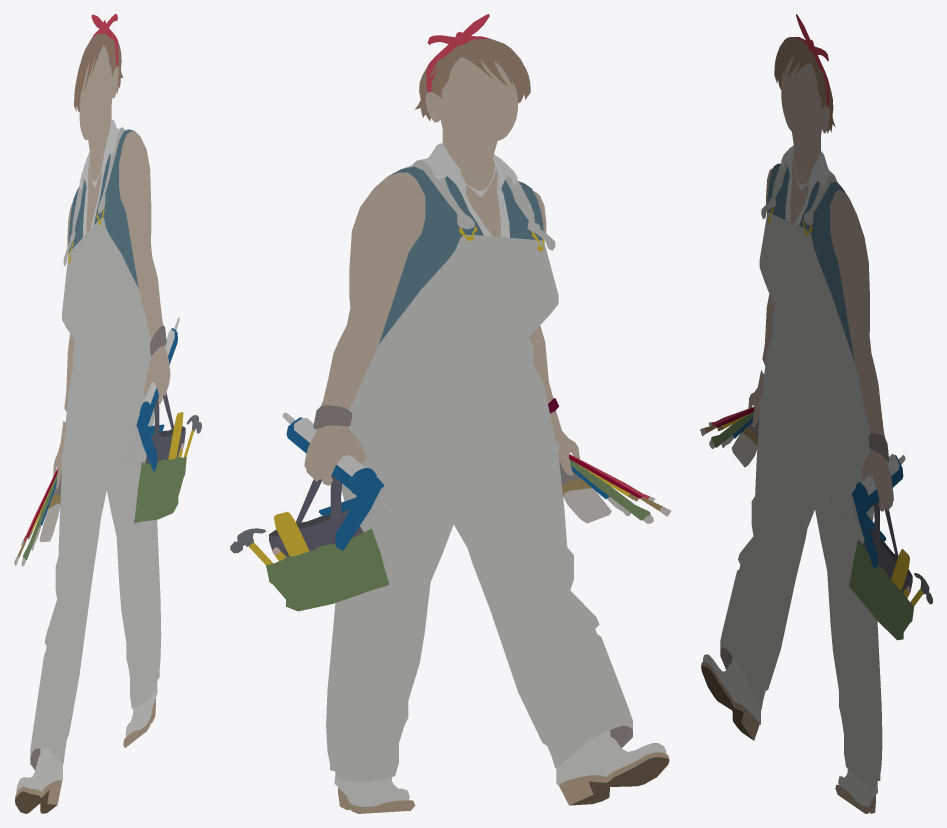
File: small model.gltf
3 renders of one model, left to right at view 1: azimuth 30°, elevation 25°; view 2: azimuth 150°, elevation 25°; view 3: azimuth 270°, elevation 25°, orthographic. The views are drawn at different scales.
Visible parts, largest first — view 1: Lisanne; view 2: Lisanne; view 3: Lisanne.
Part boxes in pixels (box(x1,y1,x2,y2)): Lisanne: box(14, 14, 201, 813); Lisanne: box(230, 14, 671, 813); Lisanne: box(700, 14, 932, 813).
Bounding box in the file's own units: 0.711 × 1.7 × 0.4741.
